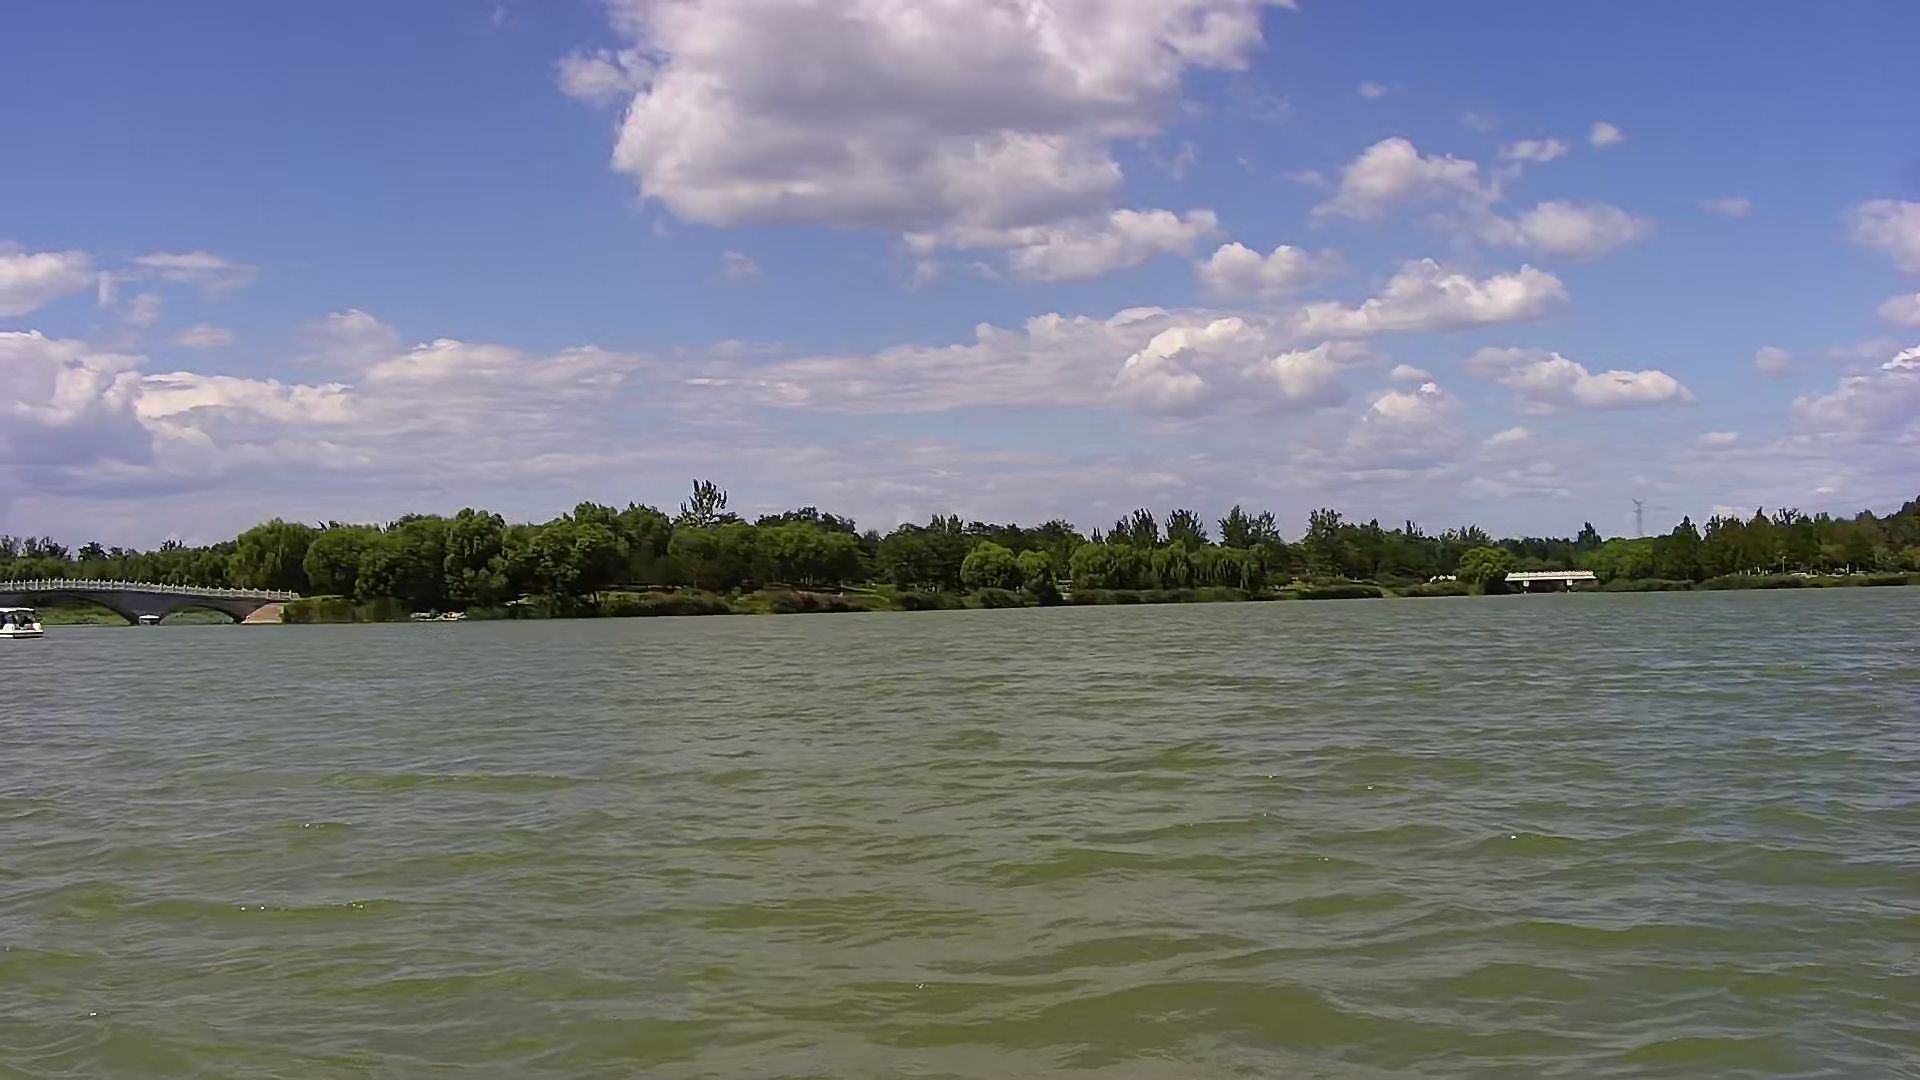bridge: (7, 578, 299, 630), (1498, 568, 1598, 599)
